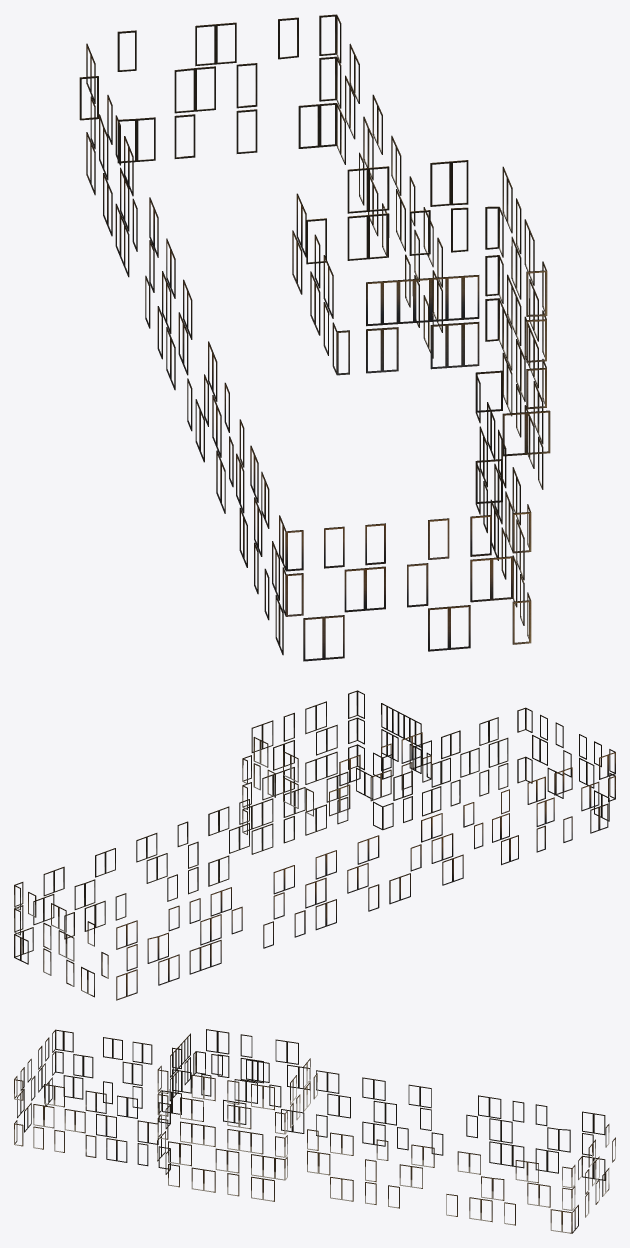
Rendered from Building_08_Frame.fbx.
3 renders of one model, top to bottom at view 1: azimuth 30°, elevation 25°; view 2: azimuth 150°, elevation 25°; view 3: azimuth 270°, elevation 25°, orthographic. The views are drawn at different scales.
Visible parts, largest first — view 1: Building_08_Frame; view 2: Building_08_Frame; view 3: Building_08_Frame.
Boxes of the visible parts, left/top/right/bottom form: Building_08_Frame: left=79, top=14, right=550, bottom=661; Building_08_Frame: left=14, top=690, right=615, bottom=1000; Building_08_Frame: left=14, top=1029, right=615, bottom=1233.
Bounding box in the file's own units: 38.92 × 14.98 × 71.4.
1 material, 1 textured.
